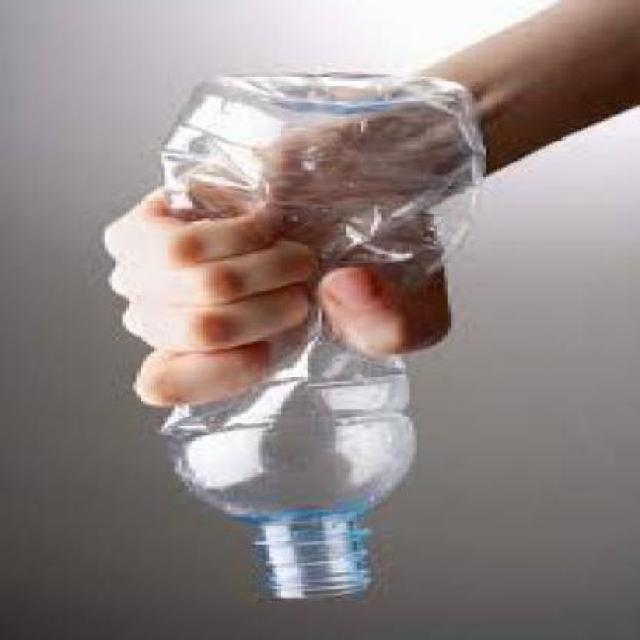PLASTIC: (153, 77, 479, 600)
